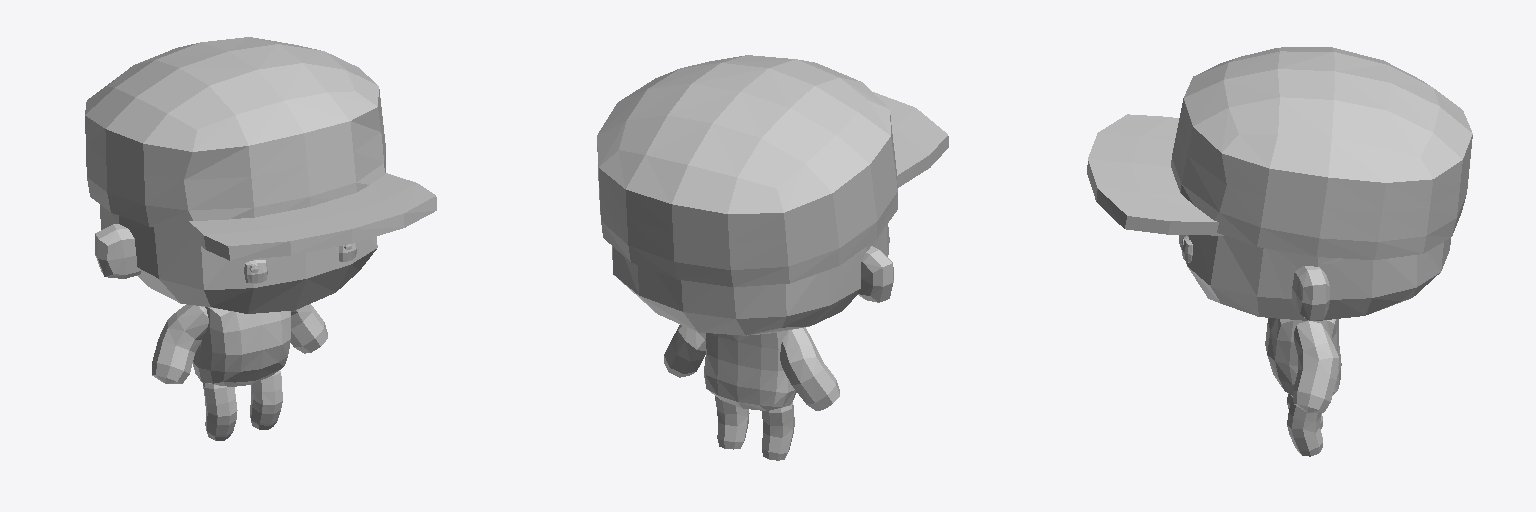
File: idle_0019.obj
3 views of the same model, side by side, from view 1: azimuth 30°, elevation 25°; view 2: azimuth 150°, elevation 25°; view 3: azimuth 270°, elevation 25° (orthographic).
Visible parts, largest first — view 1: Object_41, Object_42, Object_36, Object_44, Object_38; view 2: Object_41, Object_44, Object_36, Object_42; view 3: Object_41, Object_36, Object_42, Object_44.
Boxes of the visible parts, box(x1,y1,x2,y2) form: Object_41: box(85, 37, 385, 231); Object_42: box(184, 107, 436, 260); Object_36: box(95, 205, 377, 313); Object_44: box(152, 304, 327, 440); Object_38: box(244, 242, 357, 283); Object_41: box(597, 55, 897, 286); Object_44: box(664, 325, 839, 460); Object_36: box(612, 224, 893, 335); Object_42: box(873, 92, 948, 187); Object_41: box(1184, 47, 1472, 259); Object_36: box(1179, 235, 1450, 320); Object_42: box(1087, 98, 1226, 235); Object_44: box(1265, 318, 1341, 456).
Bounding box in the file's own units: 0.9691 × 1.22 × 1.14.